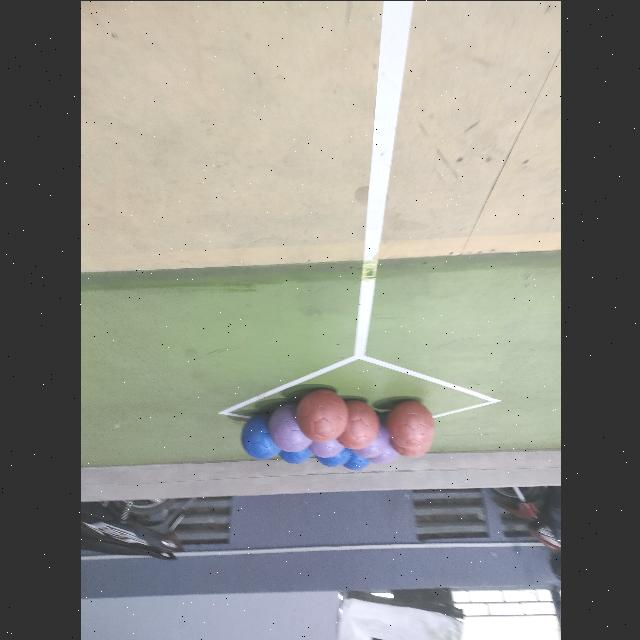B: (240, 414, 280, 458), (315, 446, 353, 466), (278, 448, 312, 464)
P: (268, 403, 310, 451), (353, 422, 389, 458), (308, 439, 344, 457)
R: (295, 390, 347, 440), (334, 398, 384, 446), (386, 400, 434, 448)
